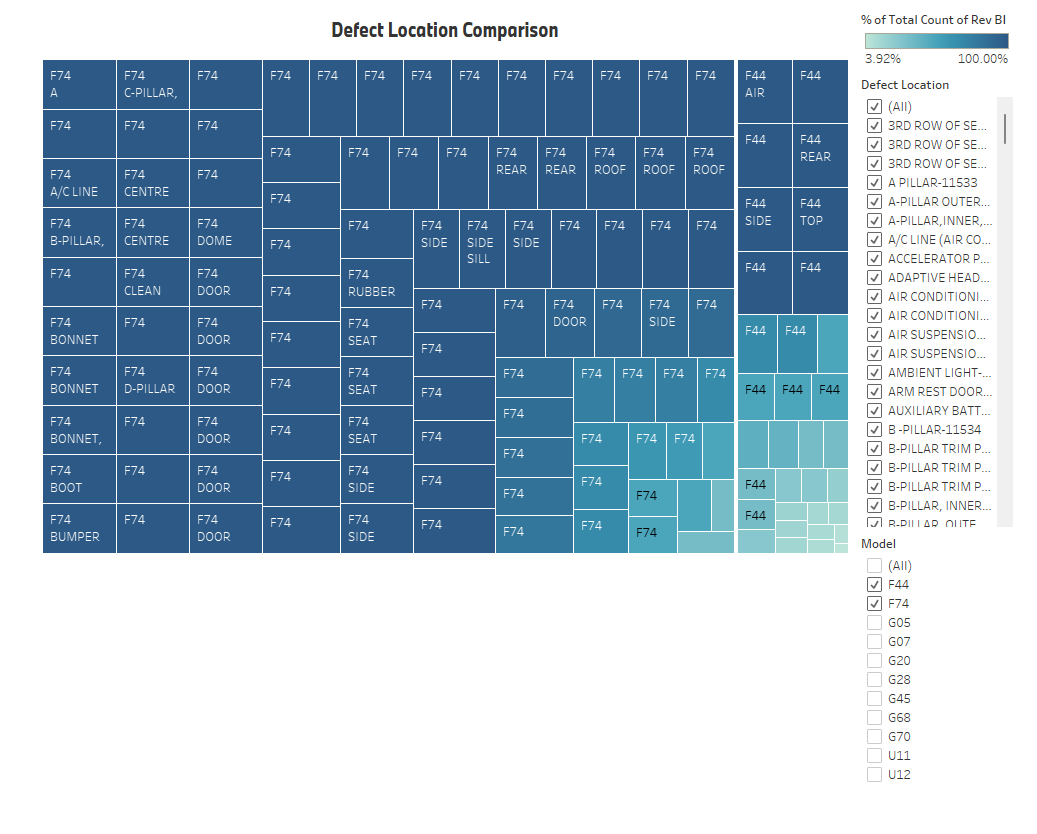

What the dashboard file says about the page in this screenshot:
{"tool":"tableau","page":{"name":"Dashboard 2","canvas":[1000,800],"ordinal":1},"visuals":[{"type":"worksheet","title":"Sheet 3","mark":"Square","rows":["DEFECT TYPE"],"cols":["MODEL"],"box":[8,8,824,784]},{"type":"legend","title":"Sheet 3","param":"[federated.05032tn0ry6hnt141ngha1lkkog3].[pcto:cnt:BI VALUE:qk:1]","box":[832,8,160,65]},{"type":"filter","title":"Sheet 3","param":"[federated.05032tn0ry6hnt141ngha1lkkog3].[none:MODEL:nk]","box":[832,73,160,260]},{"type":"filter","title":"Sheet 3","param":"[federated.05032tn0ry6hnt141ngha1lkkog3].[pcto:cnt:BI VALUE:qk:1]","box":[832,333,160,96]}]}

Visuals, with their boxes in screenshot pixels (x1, y1, x2, y2), scaled from the page's 1000x800 canvas onto the 1037x834 screenshot:
"Sheet 3" worksheet (Square marks): x1=8 y1=8 x2=863 y2=826
"Sheet 3" legend: x1=863 y1=8 x2=1029 y2=76
"Sheet 3" filter: x1=863 y1=76 x2=1029 y2=347
"Sheet 3" filter: x1=863 y1=347 x2=1029 y2=447
